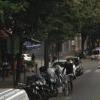Motorcycle: (21, 65, 78, 98)
